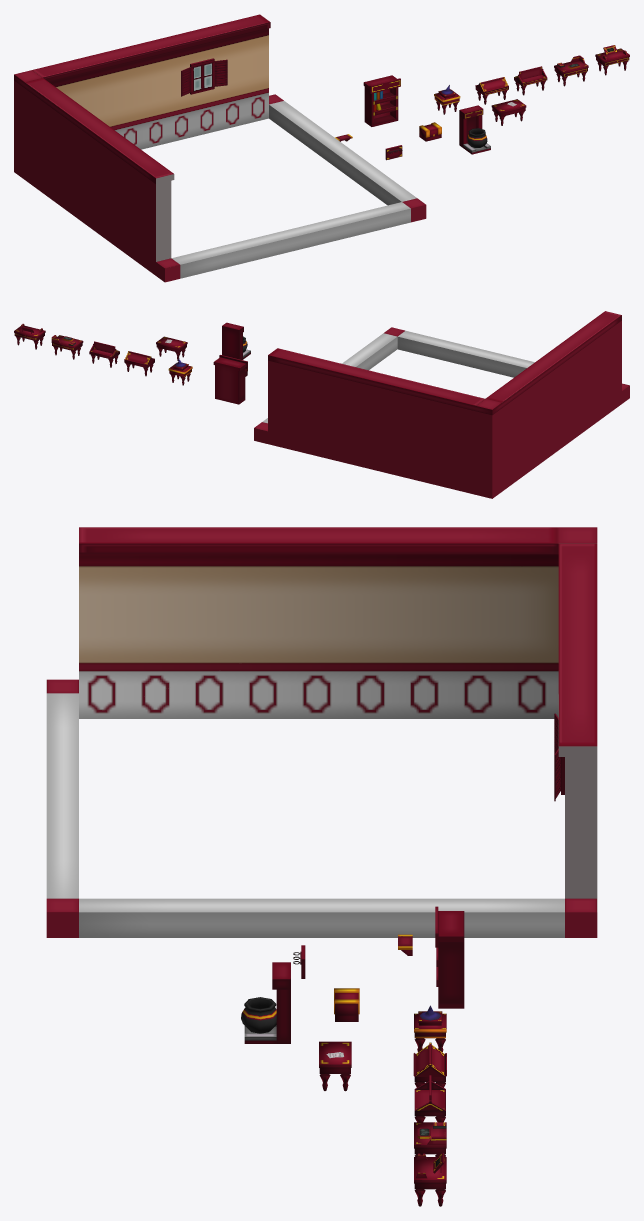
Rendered from S2_ALL.FBX.
3 renders of one model, top to bottom at view 1: azimuth 30°, elevation 25°; view 2: azimuth 150°, elevation 25°; view 3: azimuth 270°, elevation 25°, orthographic. The views are drawn at different scales.
Visible parts, largest first — view 1: wall, Bookshell, Object142, pot, crafting table1, crafting table2, storage 2, table, storage_2, hat table; view 2: wall, Bookshell, pot, crafting table2, storage 2, crafting table1, table, storage_2, hat table; view 3: wall, Bookshell, pot, crafting table1, table, storage_2, storage 2, hat table, crafting table2.
Boxes of the visible parts, x1=… form: wall: x1=14, y1=14, x2=426, y2=282; Bookshell: x1=363, y1=75, x2=400, y2=126; Object142: x1=181, y1=58, x2=227, y2=96; pot: x1=459, y1=105, x2=490, y2=154; crafting table1: x1=595, y1=45, x2=629, y2=75; crafting table2: x1=554, y1=55, x2=588, y2=86; storage 2: x1=514, y1=66, x2=547, y2=95; table: x1=491, y1=99, x2=526, y2=125; storage_2: x1=475, y1=77, x2=508, y2=104; hat table: x1=434, y1=85, x2=460, y2=114; wall: x1=254, y1=311, x2=629, y2=498; Bookshell: x1=213, y1=355, x2=247, y2=404; pot: x1=222, y1=322, x2=250, y2=359; crafting table2: x1=51, y1=335, x2=83, y2=359; storage 2: x1=89, y1=341, x2=119, y2=367; crafting table1: x1=14, y1=323, x2=45, y2=349; table: x1=156, y1=336, x2=187, y2=360; storage_2: x1=124, y1=351, x2=154, y2=376; hat table: x1=168, y1=358, x2=192, y2=385; wall: x1=46, y1=527, x2=597, y2=937; Bookshell: x1=435, y1=906, x2=464, y2=1008; pot: x1=241, y1=962, x2=290, y2=1043; crafting table1: x1=414, y1=1152, x2=446, y2=1206; table: x1=319, y1=1041, x2=351, y2=1091; storage_2: x1=413, y1=1042, x2=446, y2=1087; storage 2: x1=414, y1=1075, x2=445, y2=1122; hat table: x1=414, y1=1005, x2=446, y2=1052; crafting table2: x1=414, y1=1122, x2=446, y2=1156.
Size of the model in its own units: 36.8 by 6.12 by 17.
